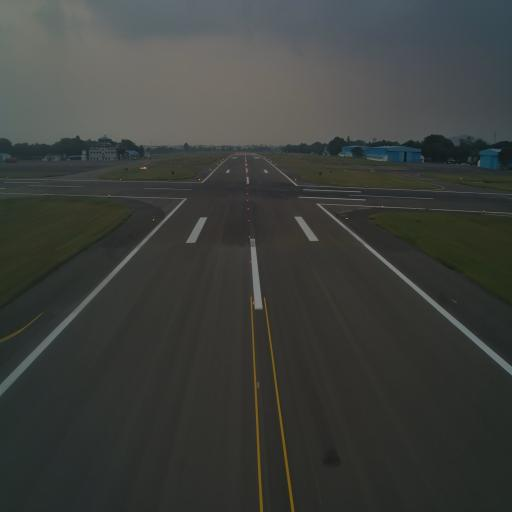on: (256, 380, 262, 390), (251, 298, 256, 308), (248, 258, 254, 266), (151, 217, 156, 222), (248, 234, 251, 242), (248, 218, 250, 224), (346, 214, 348, 220)
